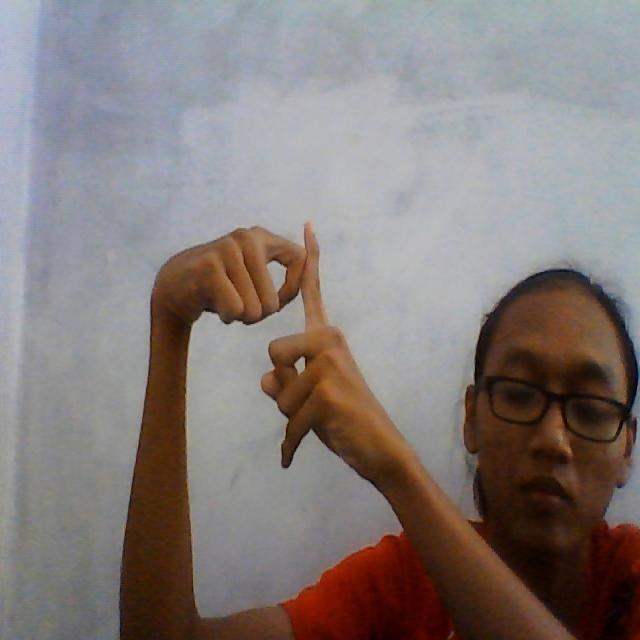K: (213, 200, 363, 440)
